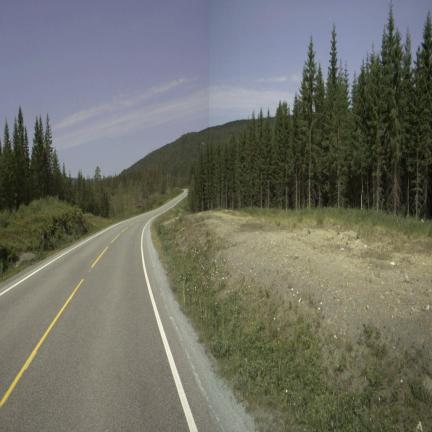Road: (0, 193, 246, 430)
